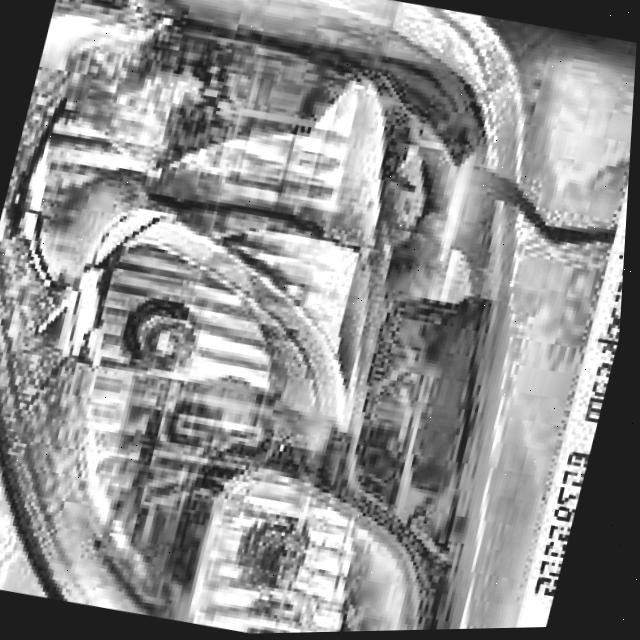tail_lamp: (0, 97, 419, 447)
